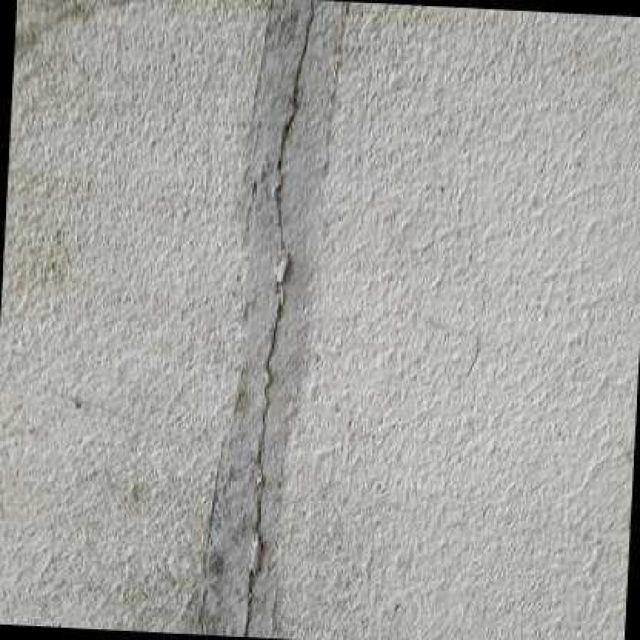D00: (277, 0, 313, 167), (266, 292, 280, 367), (253, 476, 265, 538), (244, 567, 253, 637), (257, 413, 265, 466), (276, 189, 282, 248)
